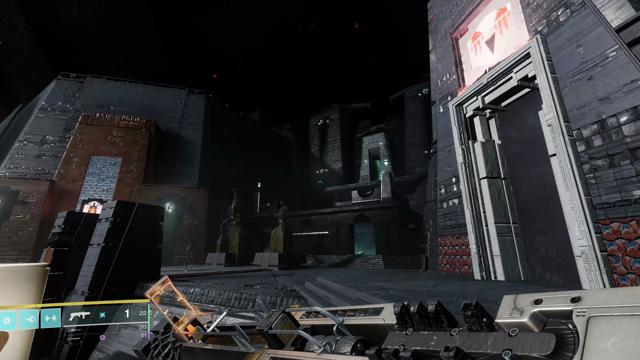give: (466, 2, 518, 70)
worship: (83, 201, 102, 214)
